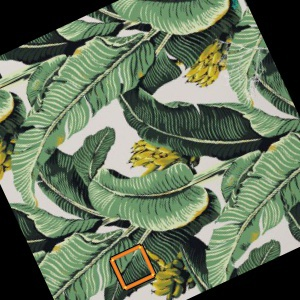square: (107, 242, 157, 292)
